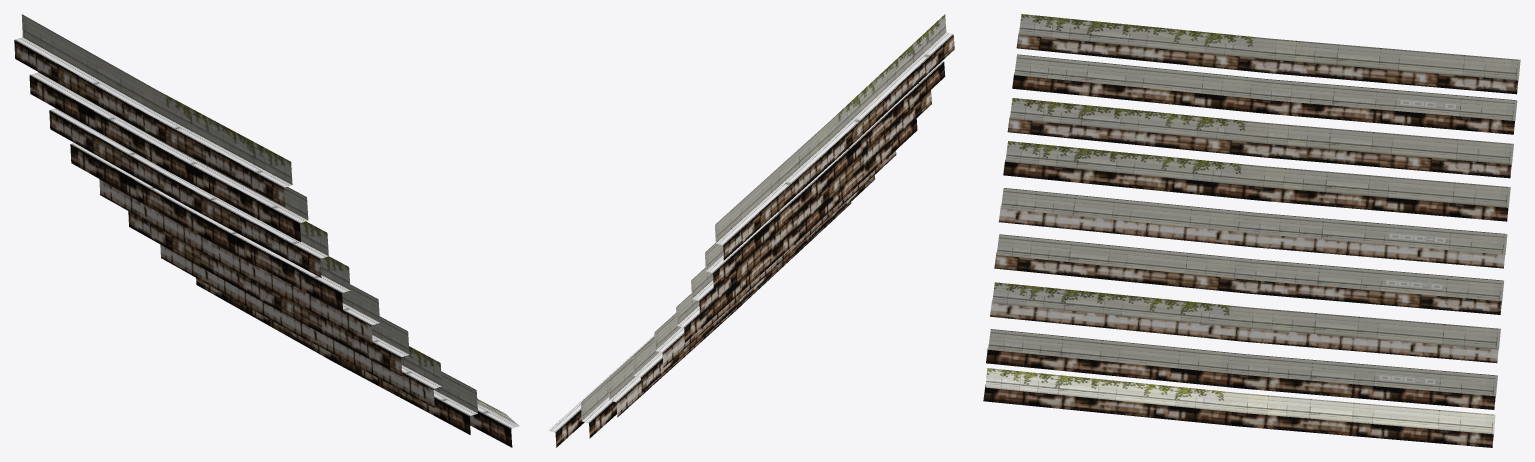
File: STA20_Windowsection.FBX
The picture shows the model from 3 angles, left to right: view 1: azimuth 30°, elevation 25°; view 2: azimuth 150°, elevation 25°; view 3: azimuth 270°, elevation 25°; orthographic projection. The views are drawn at different scales.
Visible parts, largest first — view 1: STA20_Windowsection; view 2: STA20_Windowsection; view 3: STA20_Windowsection.
Part boxes in pixels (x1=…): STA20_Windowsection: x1=14, y1=14, x2=519, y2=447; STA20_Windowsection: x1=548, y1=14, x2=954, y2=447; STA20_Windowsection: x1=983, y1=14, x2=1520, y2=447.
Size of the model in its own units: 48.11 by 78.25 by 111.
